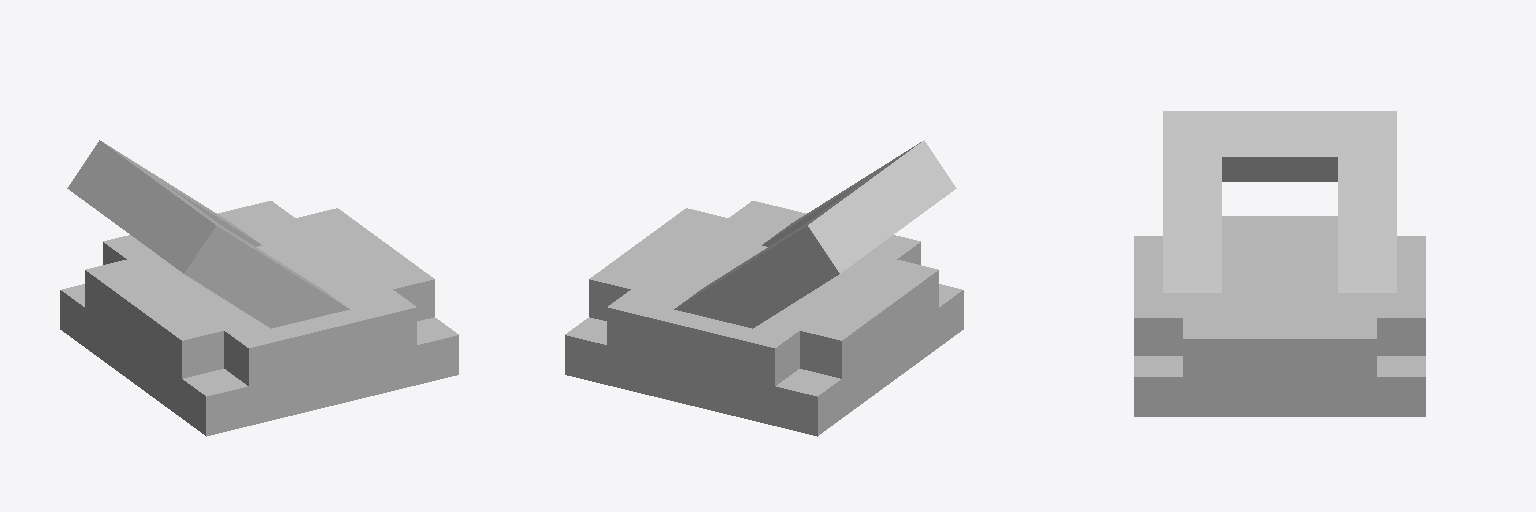
Rendered from tardis_demat_on.obj.
3 renders of one model, left to right at view 1: azimuth 30°, elevation 25°; view 2: azimuth 150°, elevation 25°; view 3: azimuth 270°, elevation 25°, orthographic.
Visible parts, largest first — view 1: Cube.002, Cube.003; view 2: Cube.002, Cube.003; view 3: Cube.002, Cube.003.
Part boxes in pixels (bbox=[...]): Cube.002: bbox=[60, 201, 458, 436]; Cube.003: bbox=[67, 140, 349, 328]; Cube.002: bbox=[565, 201, 963, 436]; Cube.003: bbox=[674, 140, 956, 328]; Cube.002: bbox=[1134, 216, 1425, 416]; Cube.003: bbox=[1163, 111, 1396, 292].
Size of the model in its own units: 1.03 by 0.7345 by 1.